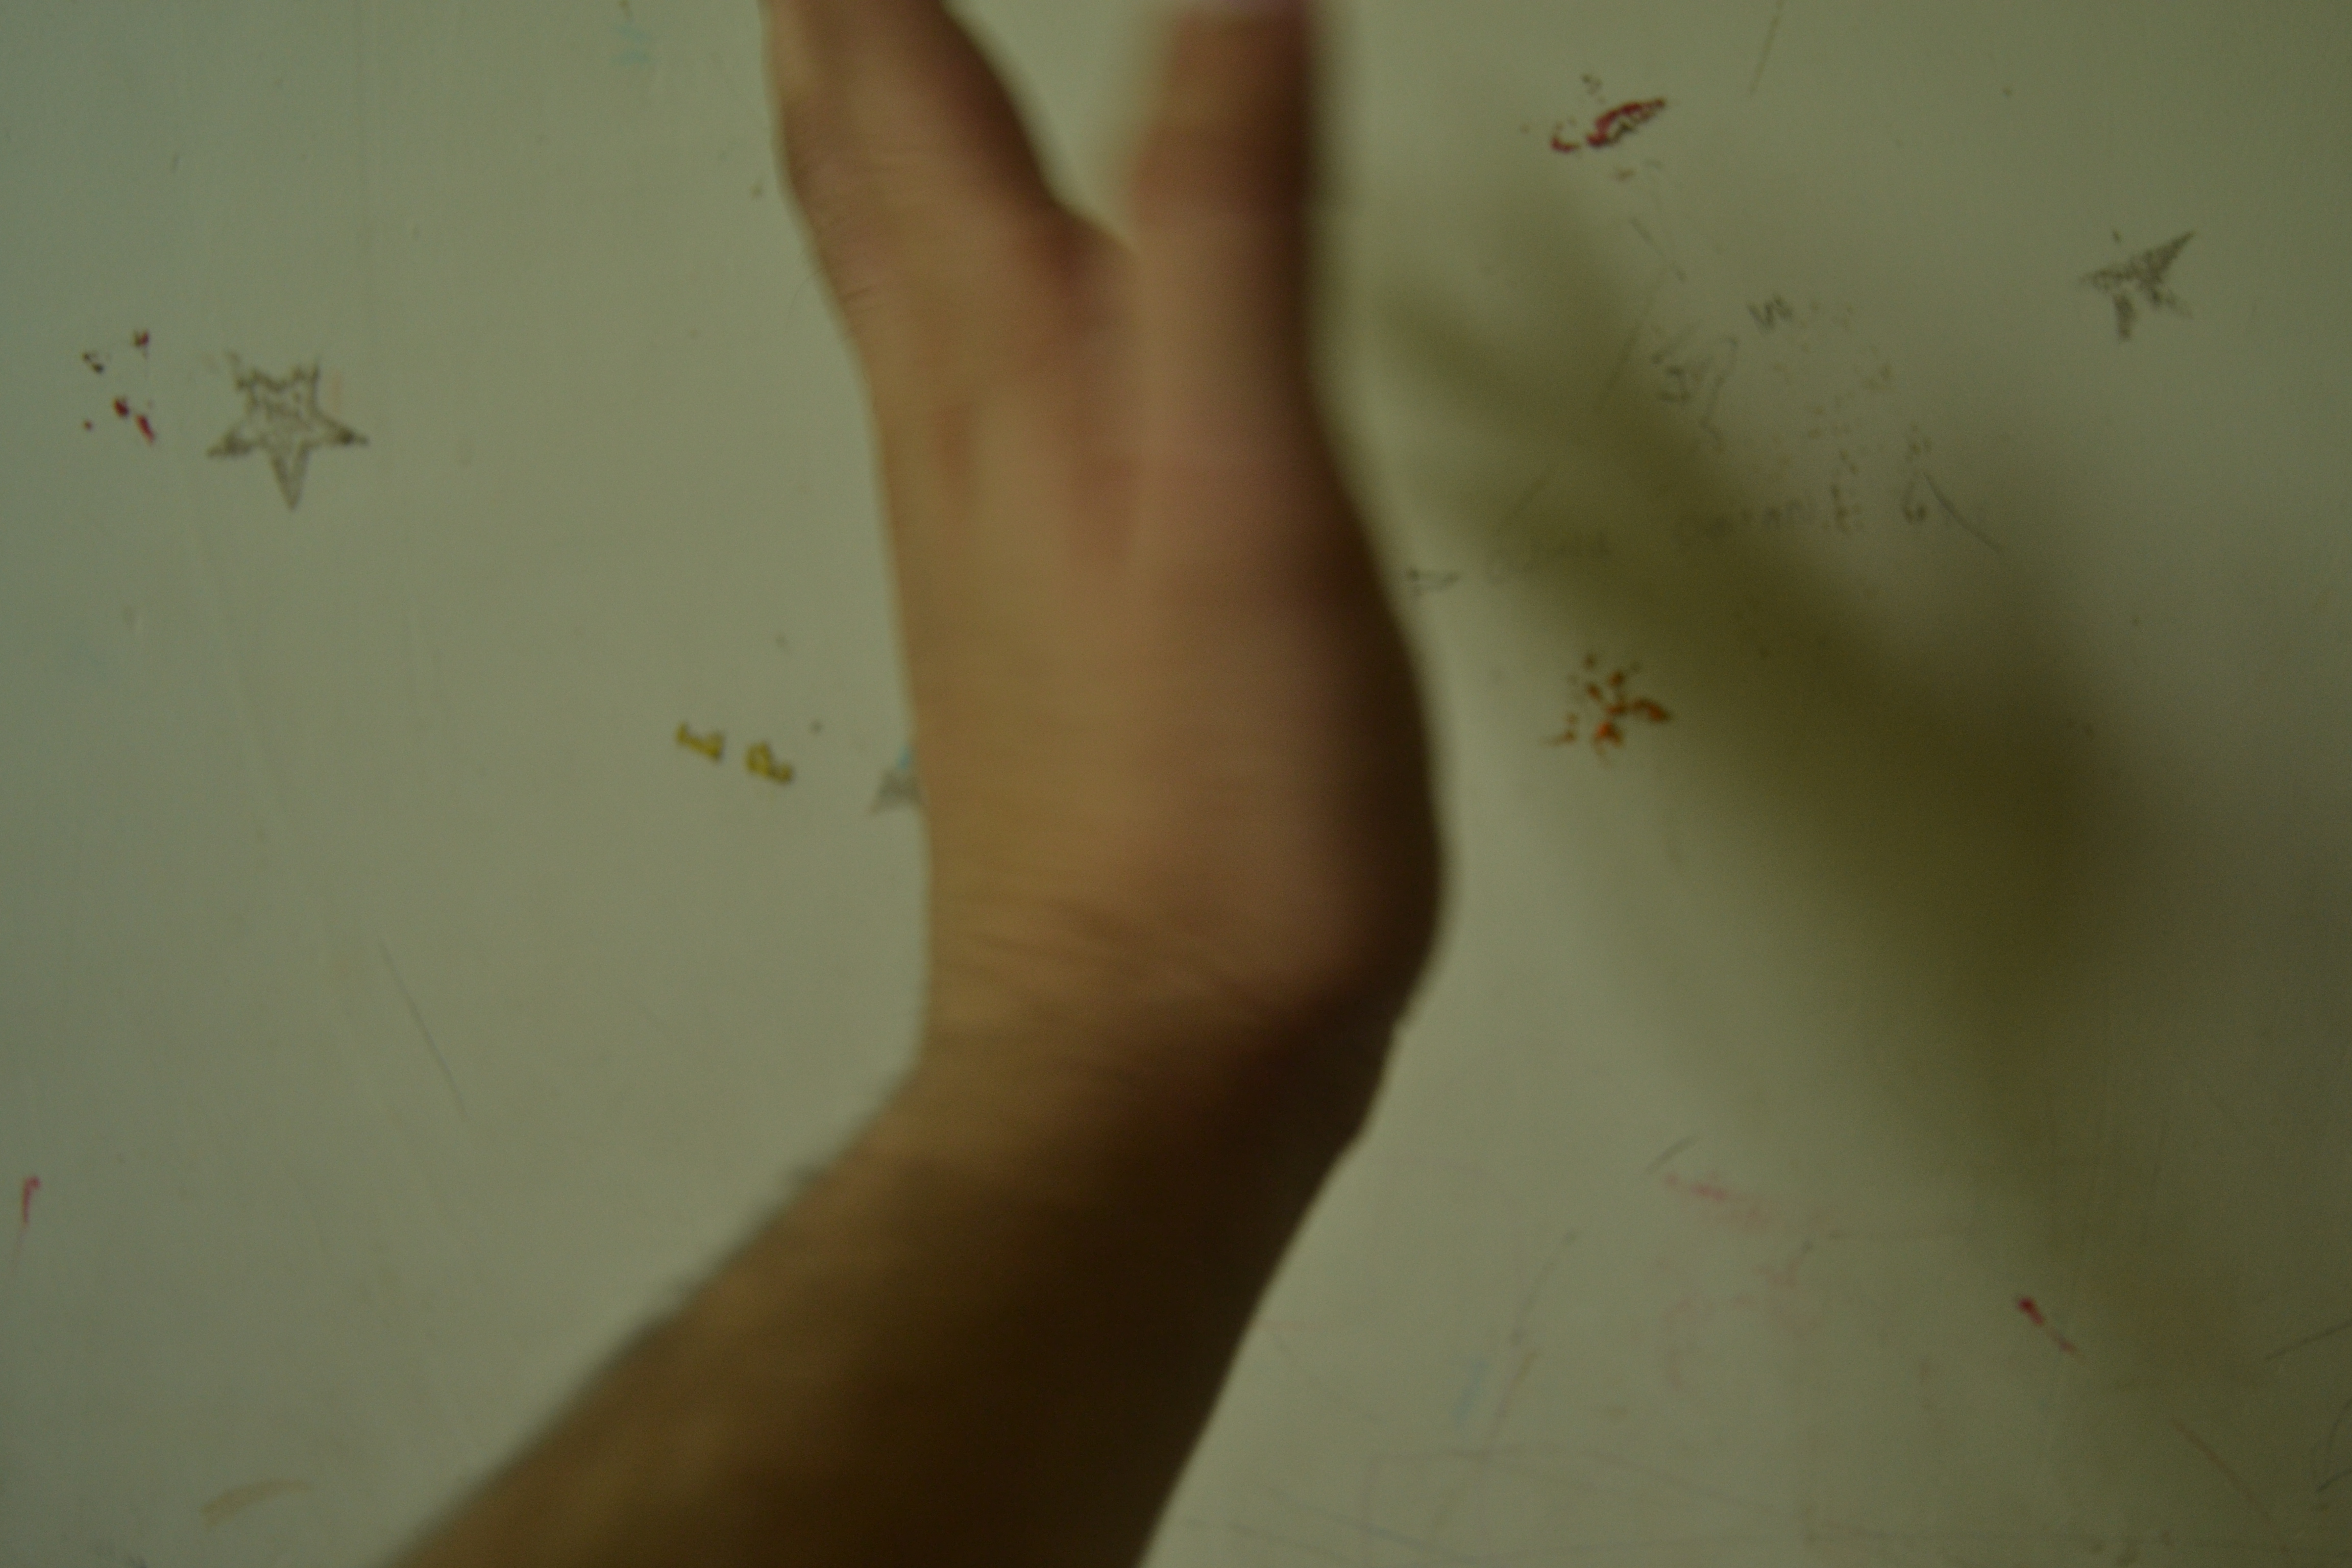move: (693, 12, 1493, 1220)
